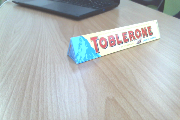Chocolate: (53, 19, 170, 66)
